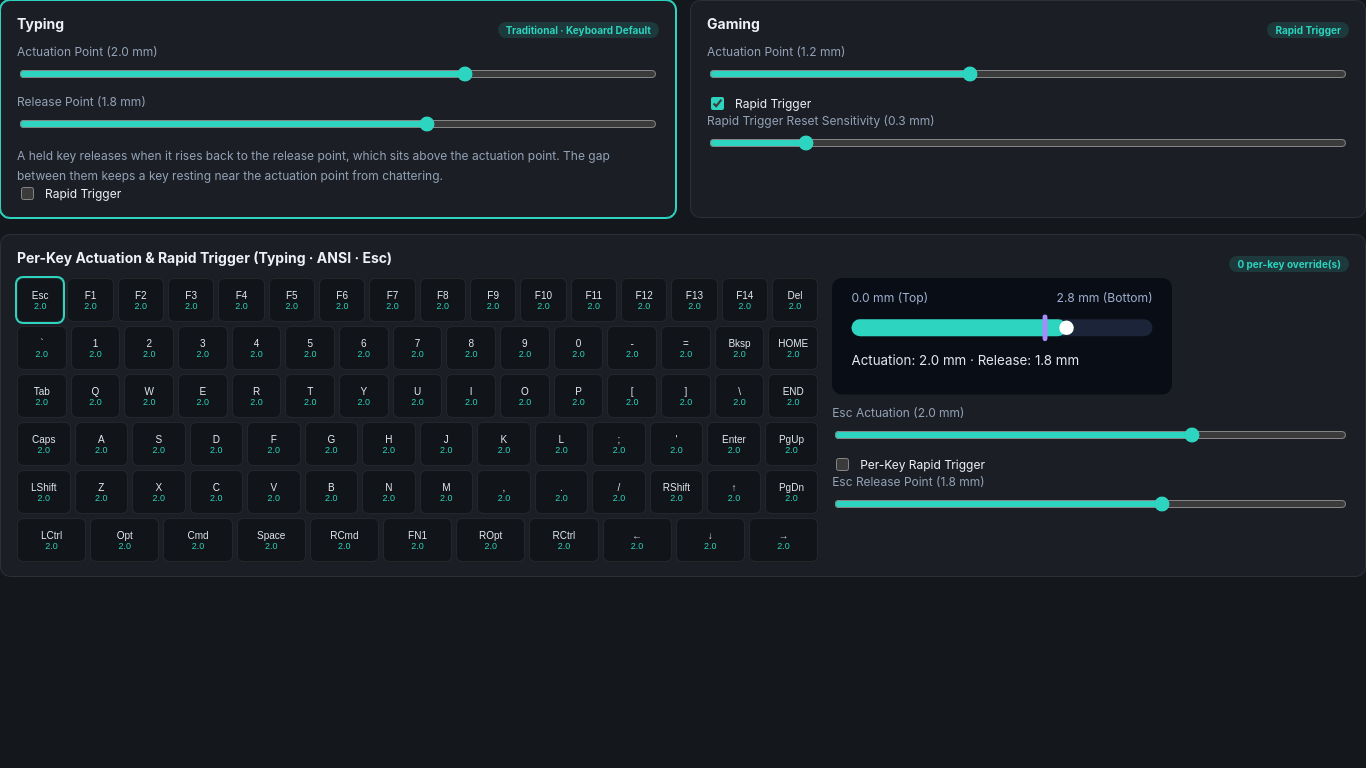
Test case: ActuationPanel release point › marks a mode the keyboard left at its default and drops the mark once edited
Check: the text "Traditional · Keyboard Default" is shown, box [498,22,659,38]
Set the slider labelled "Release Point (1.8 mm)" to "1.0". click: (249, 124)
box: [19,116,657,132]
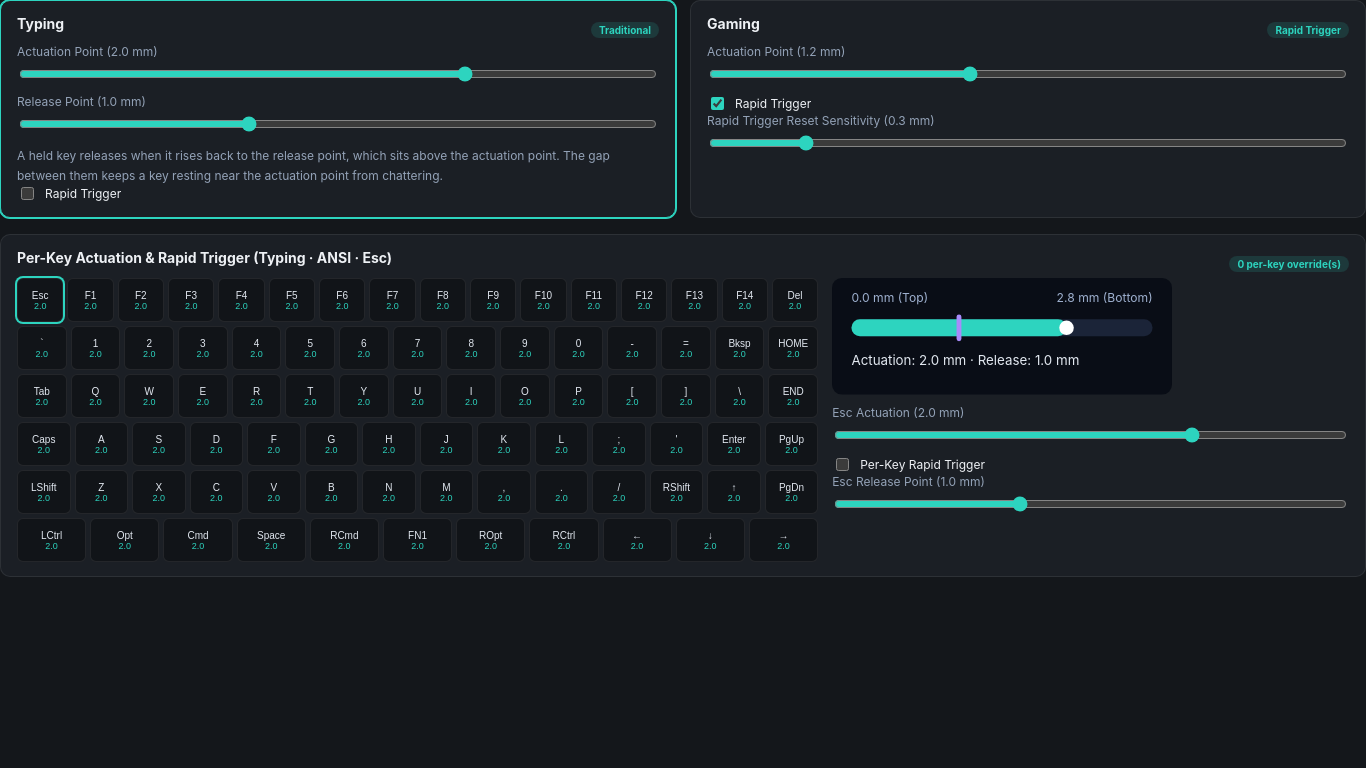
Check: the text "Keyboard Default" is gone
